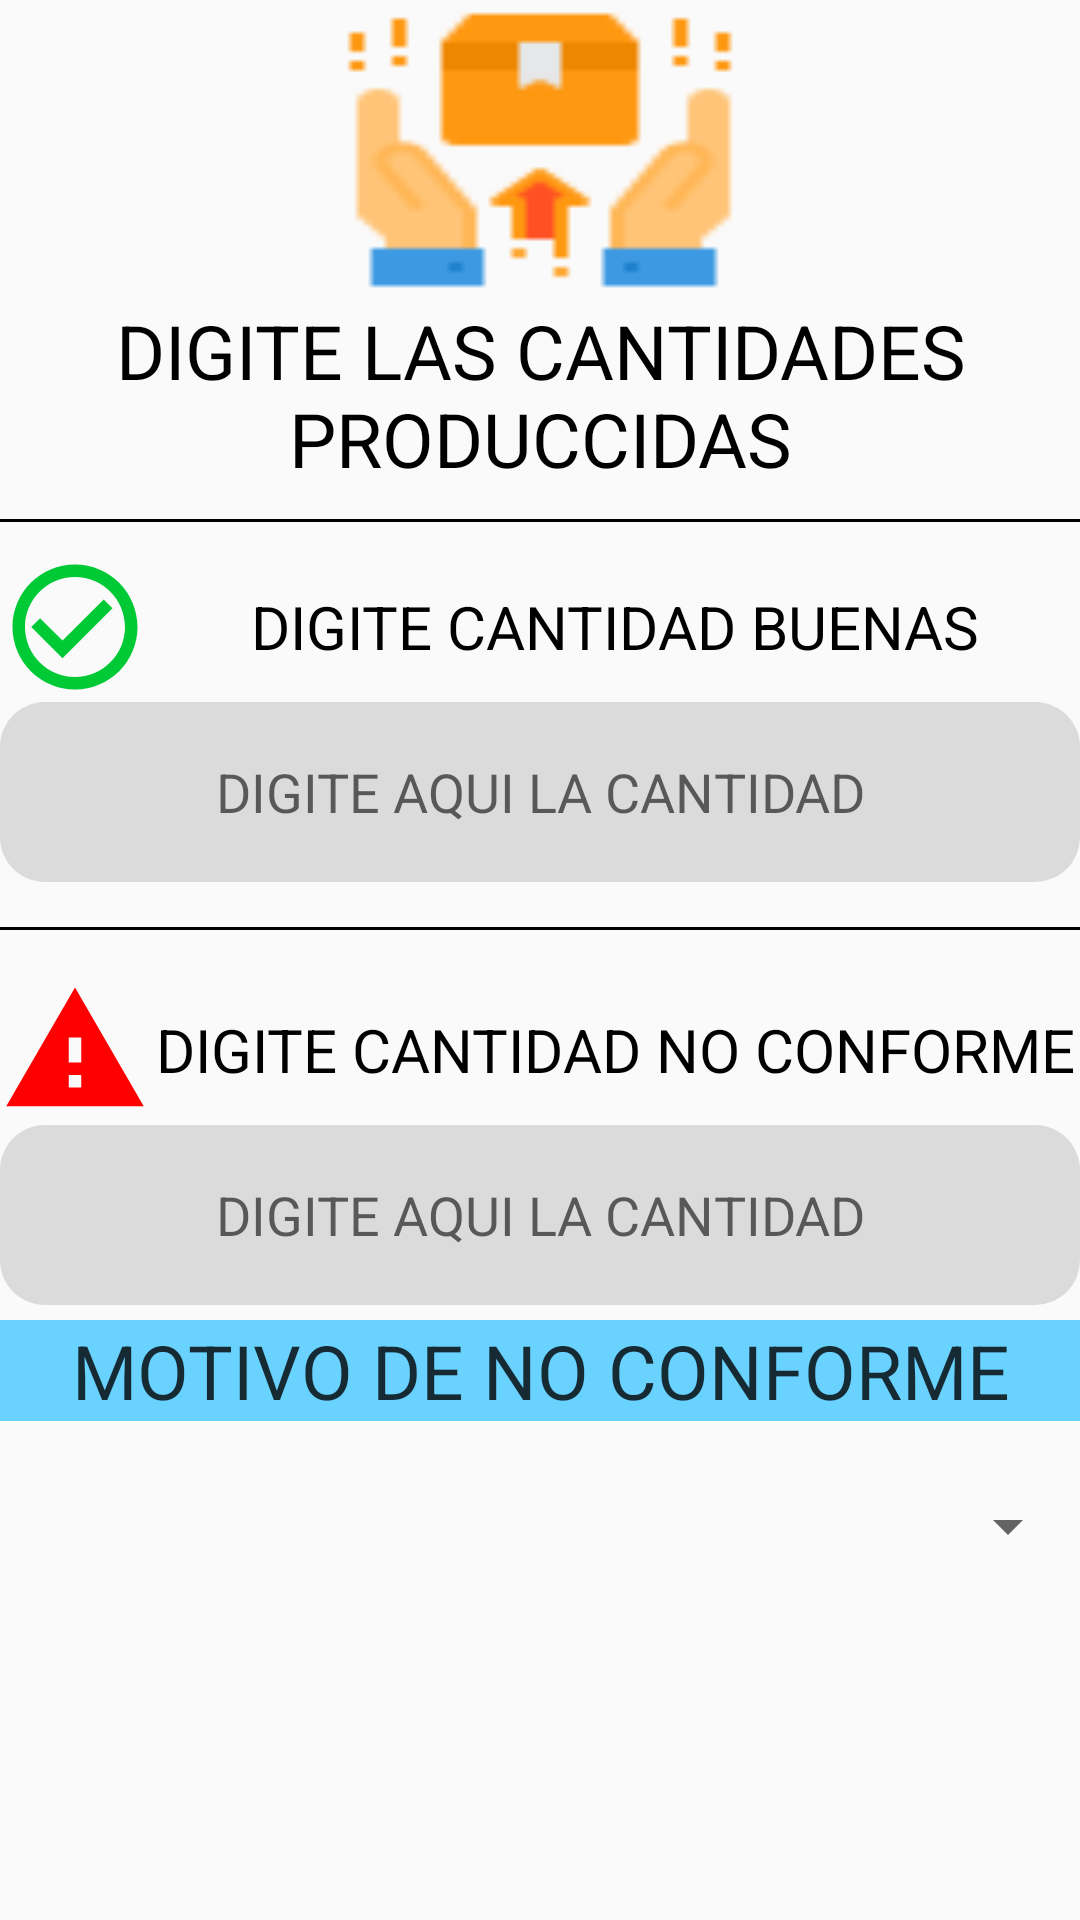

Screen size 1080 × 1920. Icon name, then its center in pixels as [x,y]:
checker: [75,627]
peligro: [75,1047]
